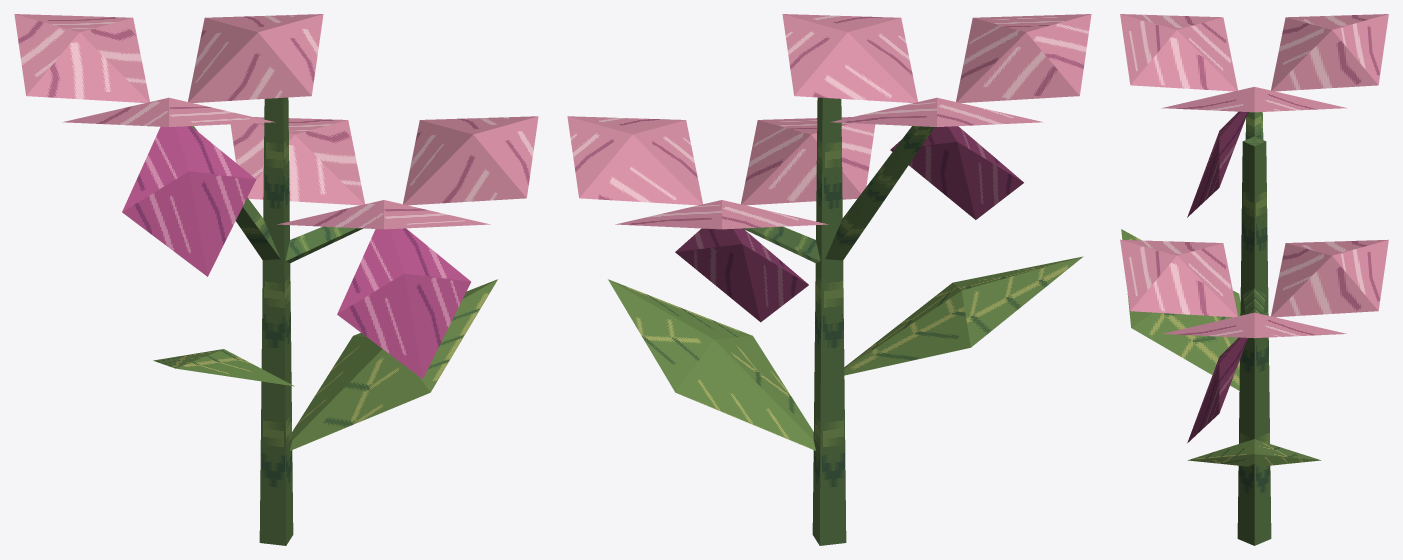
Rendered from flor-orquidea-v01.gltf.
3 views of the same model, side by side, from view 1: azimuth 30°, elevation 25°; view 2: azimuth 150°, elevation 25°; view 3: azimuth 270°, elevation 25° (orthographic). The views are drawn at different scales.
Visible parts, largest first — view 1: petalas, labio, hastes, folhas; view 2: petalas, folhas, hastes, labio; view 3: petalas, hastes, folhas, labio.
Boxes of the visible parts, box(x1,y1,x2,y2) form: petalas: box(14, 14, 538, 229); labio: box(122, 126, 470, 378); hastes: box(191, 97, 363, 545); folhas: box(153, 279, 497, 450); petalas: box(567, 14, 1091, 229); folhas: box(608, 256, 1083, 450); hastes: box(742, 97, 934, 545); labio: box(675, 126, 1023, 322); petalas: box(1120, 14, 1388, 338); hastes: box(1237, 112, 1271, 545); folhas: box(1121, 229, 1320, 466); labio: box(1187, 111, 1247, 443).
Bounding box in the file's own units: 0.7359 × 0.73 × 0.3984.
1 material, 1 textured.
